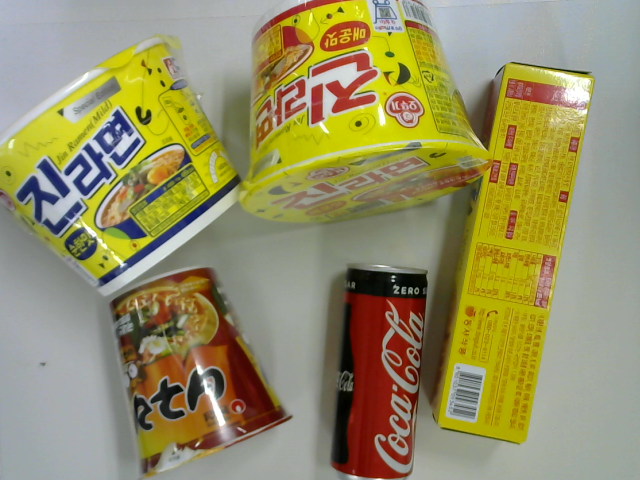Coca_Cola_Zero_Can_250ml: (329, 262, 429, 480)
Jinlamyeon_Hot_Taste_Large_Cup: (237, 1, 493, 228)
Jinlamyeon_Mild_Taste_Large_Cup: (1, 35, 247, 296)
Raccoon: (109, 263, 294, 476)
Ritz_Remon_96g: (429, 59, 598, 446)
